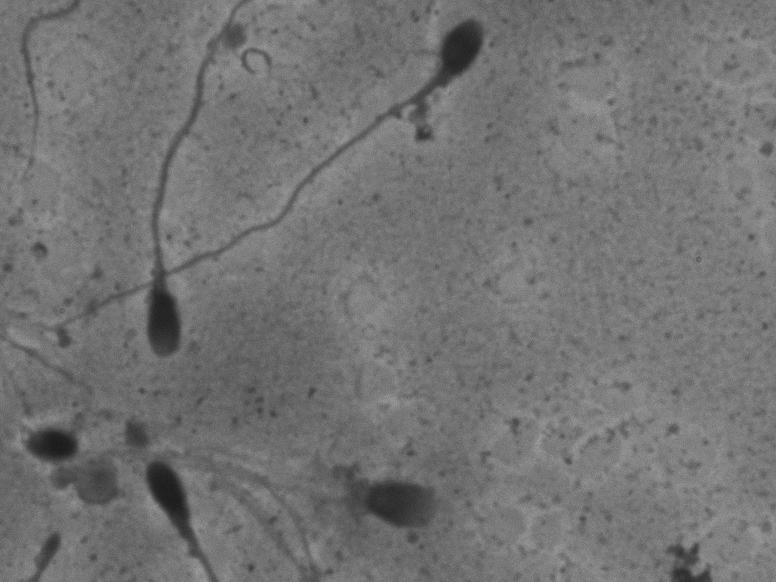Abnormal: (39, 11, 510, 342), (124, 4, 250, 365)
